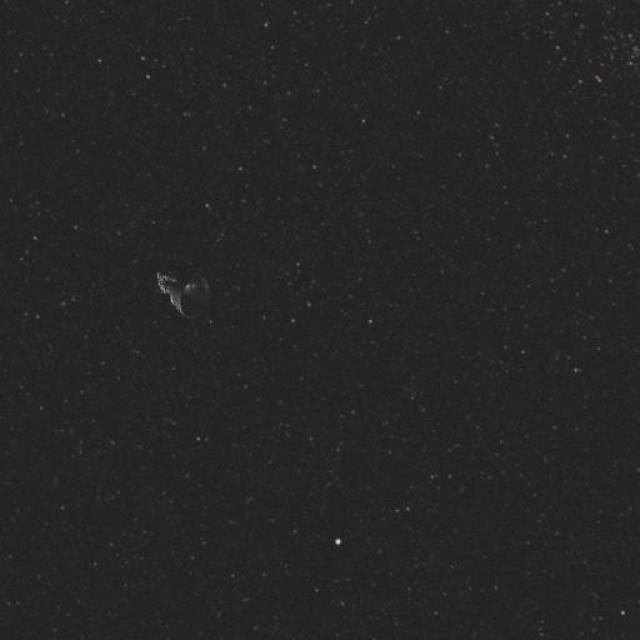debris: (146, 262, 221, 322)
